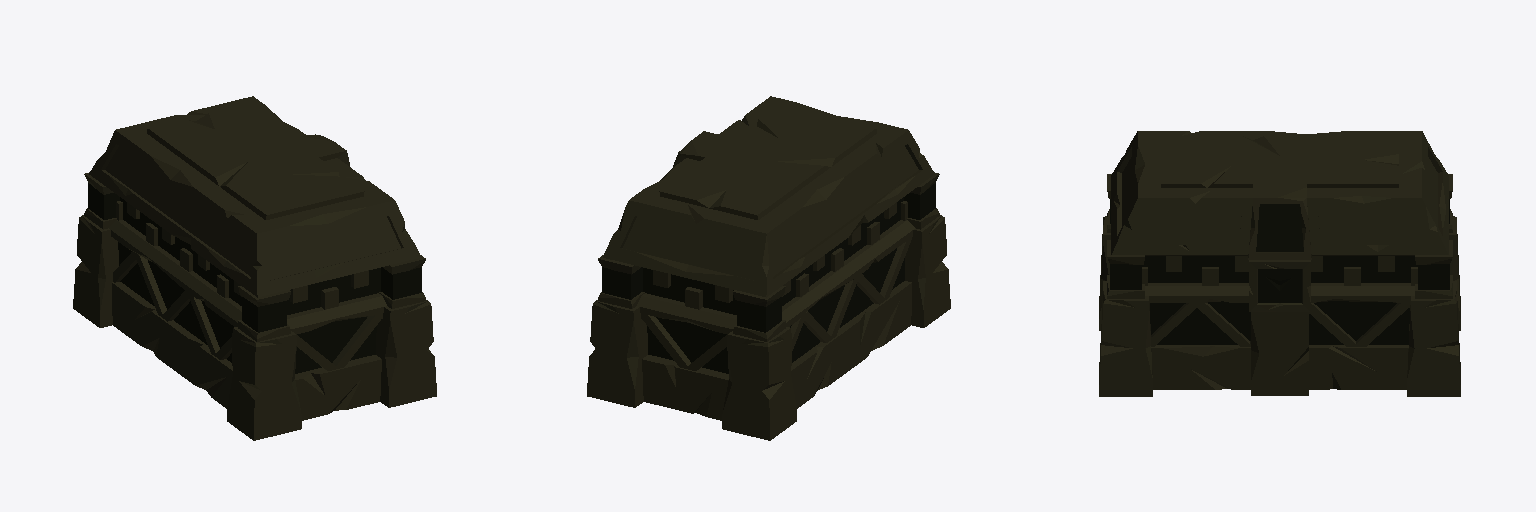
The model's file is chest.obj.
3 renders of one model, left to right at view 1: azimuth 30°, elevation 25°; view 2: azimuth 150°, elevation 25°; view 3: azimuth 270°, elevation 25°, orthographic.
Visible parts, largest first — view 1: stone_chest_Cube.008; view 2: stone_chest_Cube.008; view 3: stone_chest_Cube.008.
Part boxes in pixels (x1,y1,x2,y2): stone_chest_Cube.008: (73,96,436,440); stone_chest_Cube.008: (587,96,950,440); stone_chest_Cube.008: (1099,131,1460,396).
Bounding box in the file's own units: 0.9498 × 0.9429 × 1.61.